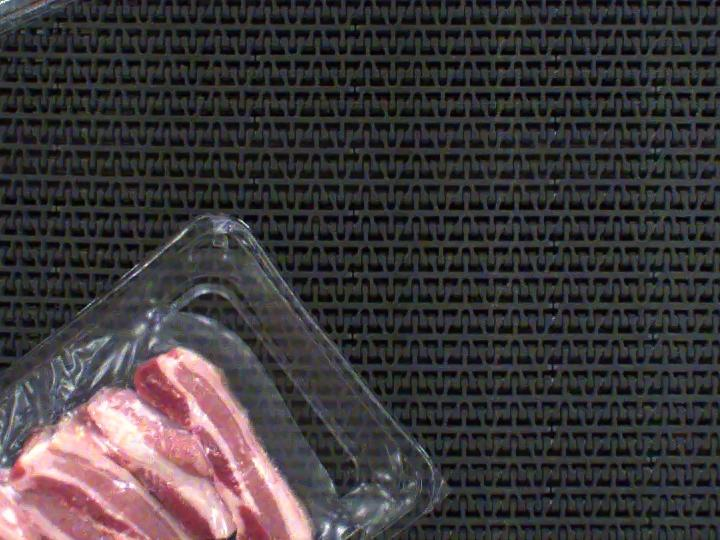unsealed: (0, 307, 415, 540)
